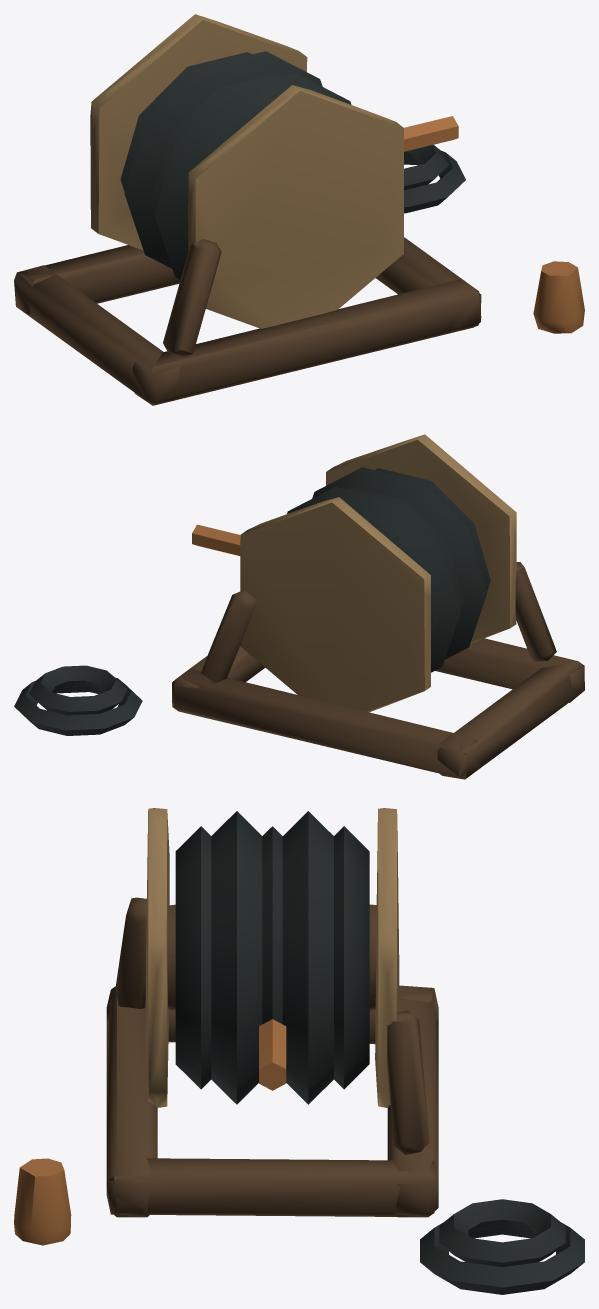
File: hose_reel_a_lod1.glb
The picture shows the model from 3 angles, top to bottom: view 1: azimuth 30°, elevation 25°; view 2: azimuth 150°, elevation 25°; view 3: azimuth 270°, elevation 25°; orthographic projection. The views are drawn at different scales.
Parts seen in each view (by area): view 1: Surface.001; view 2: Surface.001; view 3: Surface.001.
Boxes of the visible parts, x1,y1,x2,y2 form: Surface.001: (14,14,584,405); Surface.001: (14,434,584,779); Surface.001: (14,808,584,1294).
Size of the model in its own units: 2.54 by 1.36 by 2.24.
